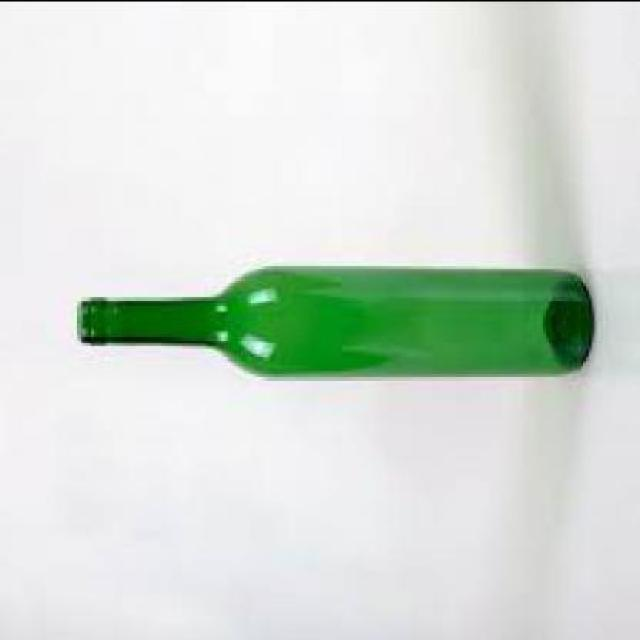GLASS: (74, 262, 592, 376)
